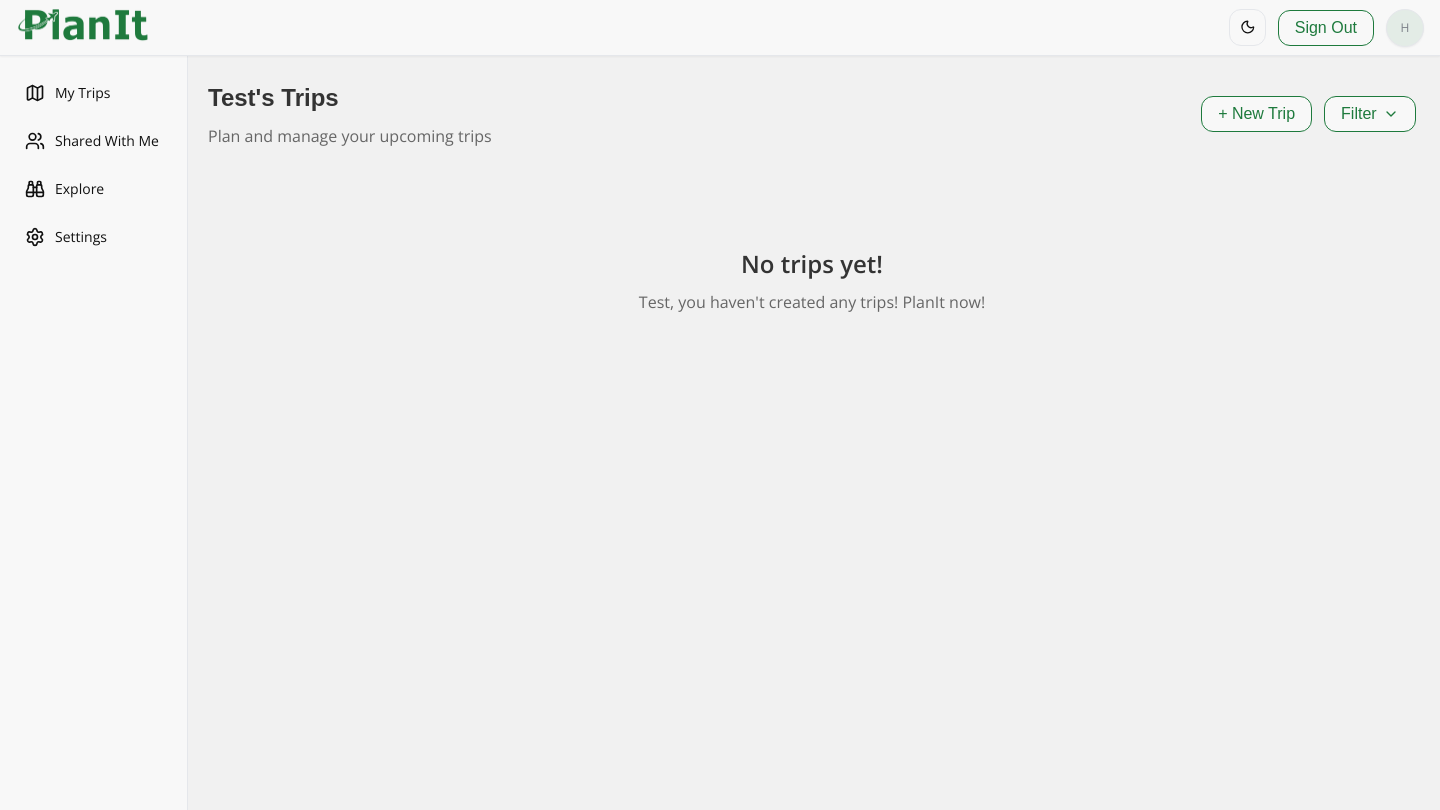
TripPage › opens modal when + New Trip is clicked
Expected: the heading "No trips yet!" is shown, [741,247,883,280]
Click the button "+ New Trip" at {"x": 1257, "y": 114}, box [1201,96,1312,132]
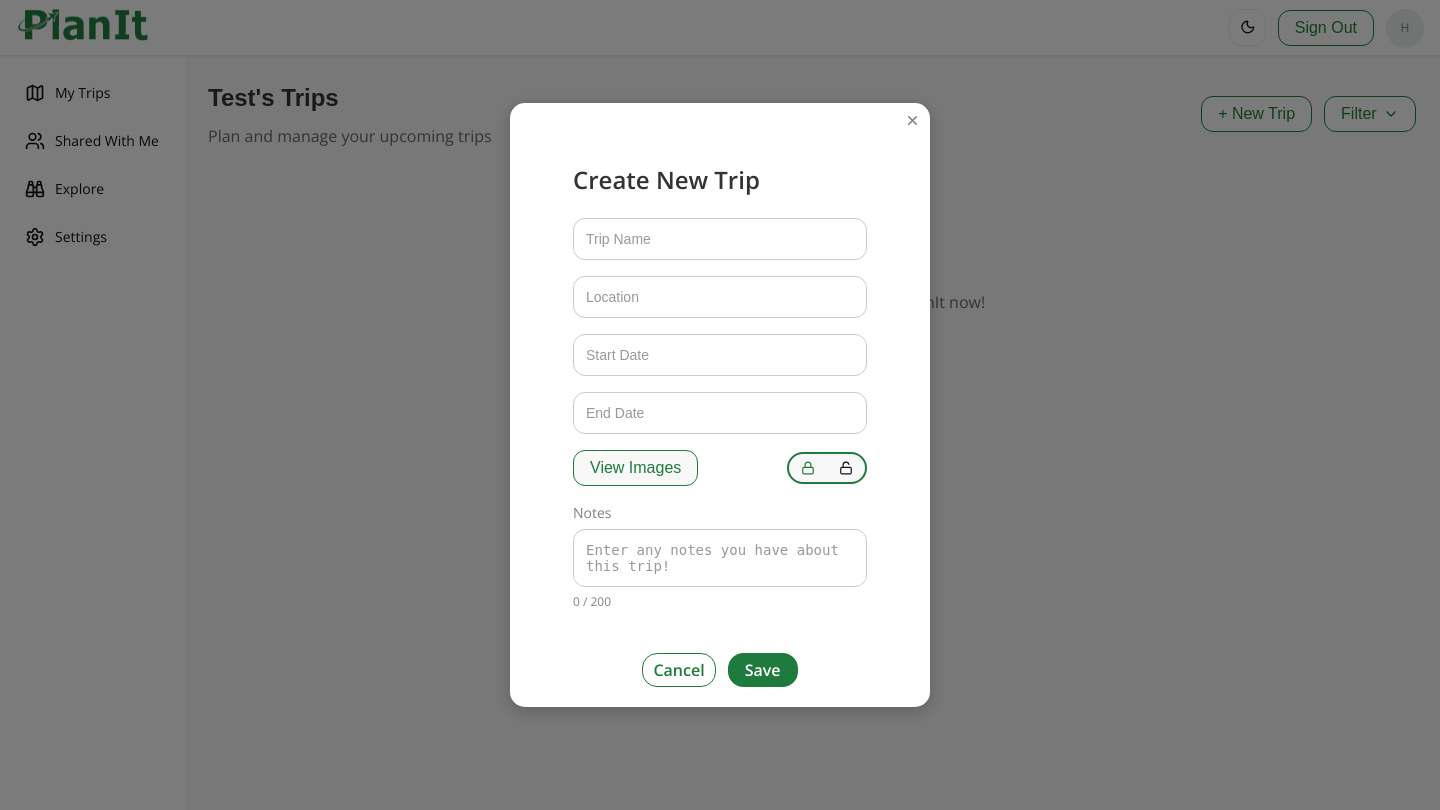
Expected: the heading "Create New Trip" is shown, [573,163,760,196]
Expected: the field with placeholder "Trip Name" is shown, [573,218,867,260]
